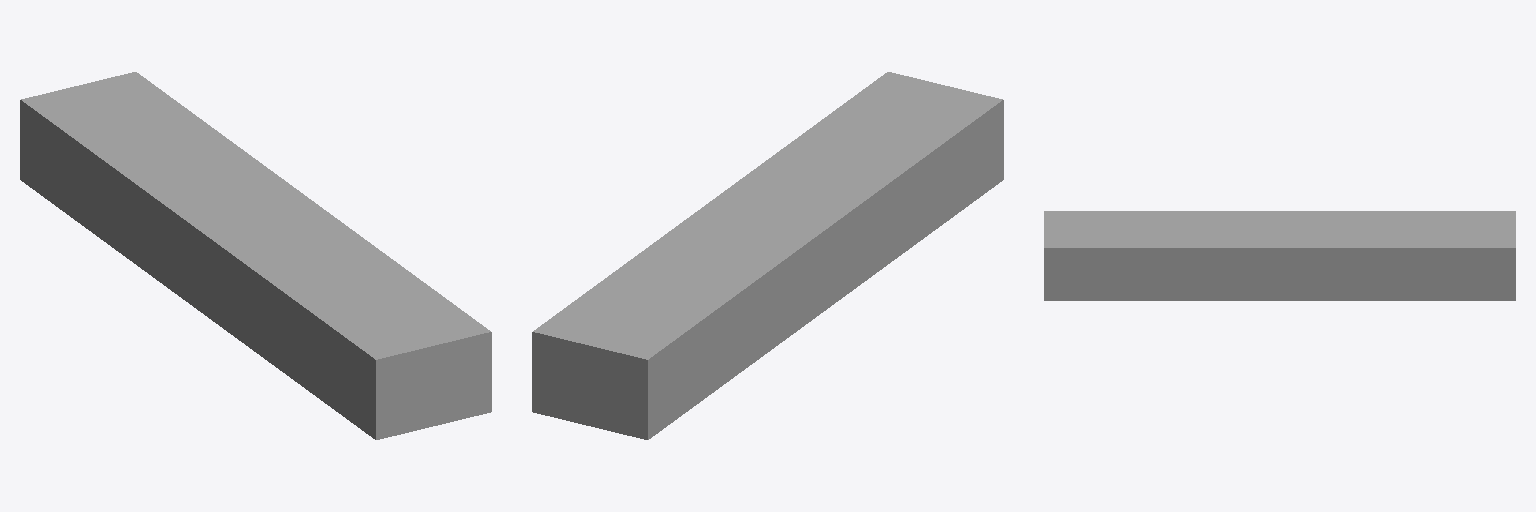
URDF robot description (table):
<?xml version="1.0" ?>
<robot name="table">
  <link name="table">
    <visual>
      <geometry>
        <box size="0.3 1.6 0.2"/>
      </geometry>
      <material name="LightGrey">
        <color rgba="0.7 0.7 0.7 1.0"/>
      </material>
    </visual>
    <collision>
      <geometry>
        <box size="0.3 1.6 0.2"/>
      </geometry>
    </collision>
  </link>
</robot>

--- What the picture shows (computed from the rendered views, not written in the file) ---
The picture shows the robot from 3 angles, left to right: view 1: azimuth 30°, elevation 25°; view 2: azimuth 150°, elevation 25°; view 3: azimuth 270°, elevation 25°; orthographic projection.
Model table with 1 links and 0 joints (none), rooted at table, posed every joint at zero.
Visible links, largest first — view 1: table; view 2: table; view 3: table.
Boxes of the visible links, <box> form: table: <box>20,72,491,439</box>; table: <box>532,72,1003,439</box>; table: <box>1044,211,1515,300</box>.
Bounding box of the posed robot: 0.3 × 1.6 × 0.2 m (x, y, z).
Geometry: primitives only (box / cylinder / sphere), no mesh files.